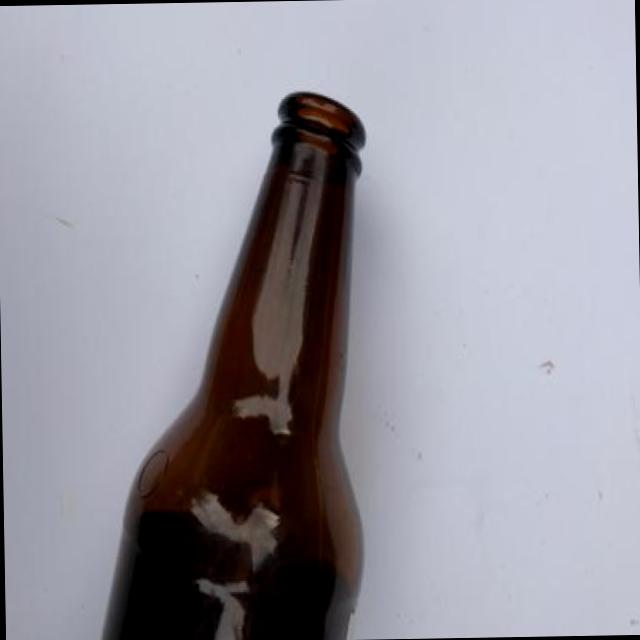chai_thuy_tinh: (100, 93, 363, 640)
